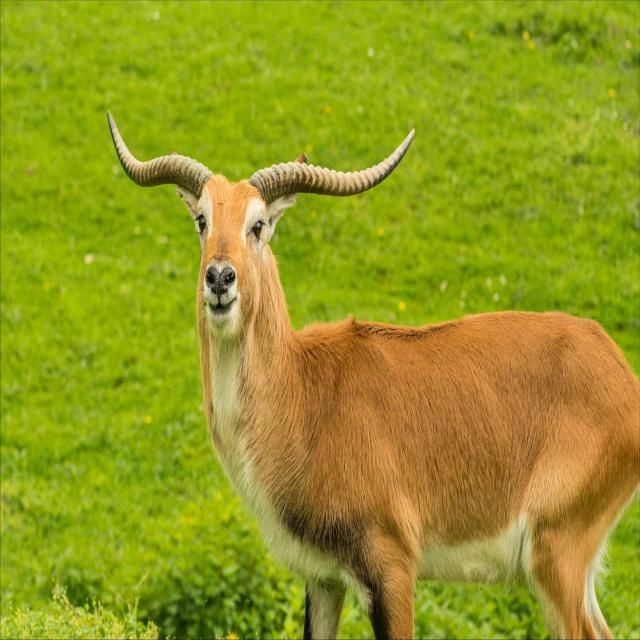Antelope: (105, 102, 640, 639)
